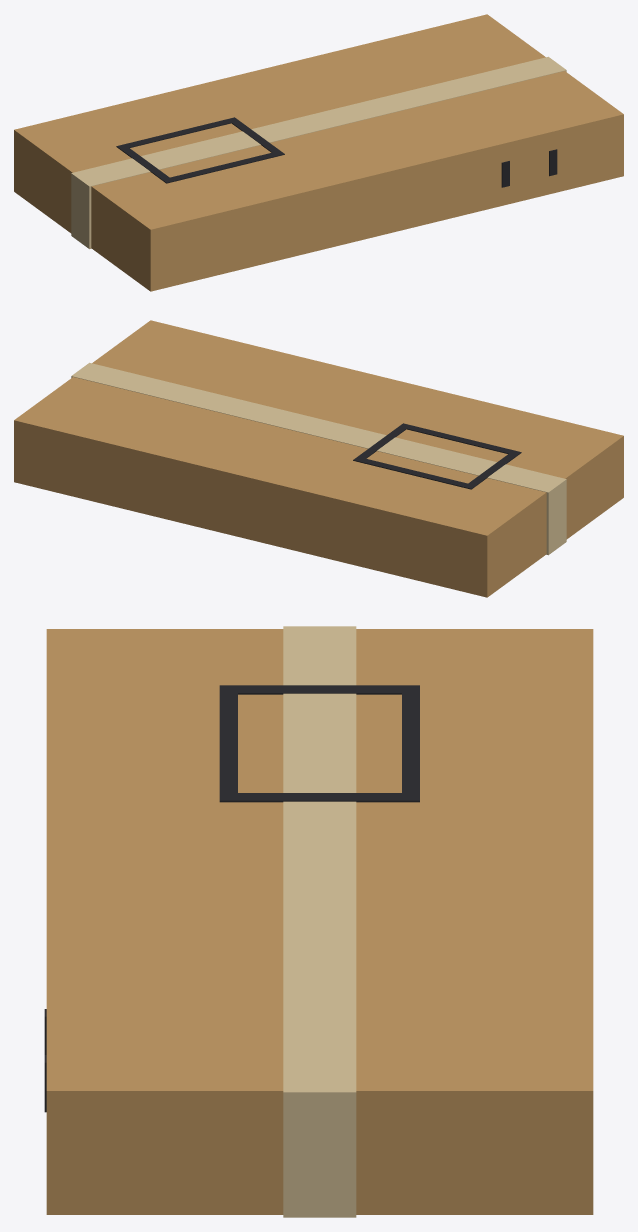
The model's file is flatpack_box.glb.
3 renders of one model, top to bottom at view 1: azimuth 30°, elevation 25°; view 2: azimuth 150°, elevation 25°; view 3: azimuth 270°, elevation 25°, orthographic. The views are drawn at different scales.
Parts seen in each view (by area): view 1: box_cardboard, tape_cardboard_tape, drawing_cardboard_ink, arrow_cardboard_ink; view 2: box_cardboard, tape_cardboard_tape, drawing_cardboard_ink; view 3: box_cardboard, tape_cardboard_tape, drawing_cardboard_ink.
Part boxes in pixels (left/top/right/bottom): box_cardboard: left=14, top=14, right=623, bottom=291; tape_cardboard_tape: left=71, top=56, right=566, bottom=249; drawing_cardboard_ink: left=116, top=117, right=284, bottom=183; arrow_cardboard_ink: left=501, top=149, right=557, bottom=187; box_cardboard: left=14, top=320, right=623, bottom=597; tape_cardboard_tape: left=71, top=362, right=566, bottom=555; drawing_cardboard_ink: left=353, top=423, right=521, bottom=489; box_cardboard: left=46, top=629, right=593, bottom=1214; tape_cardboard_tape: left=283, top=626, right=356, bottom=1217; drawing_cardboard_ink: left=219, top=685, right=419, bottom=802.
Size of the model in its own units: 1.21 by 0.153 by 0.602.
